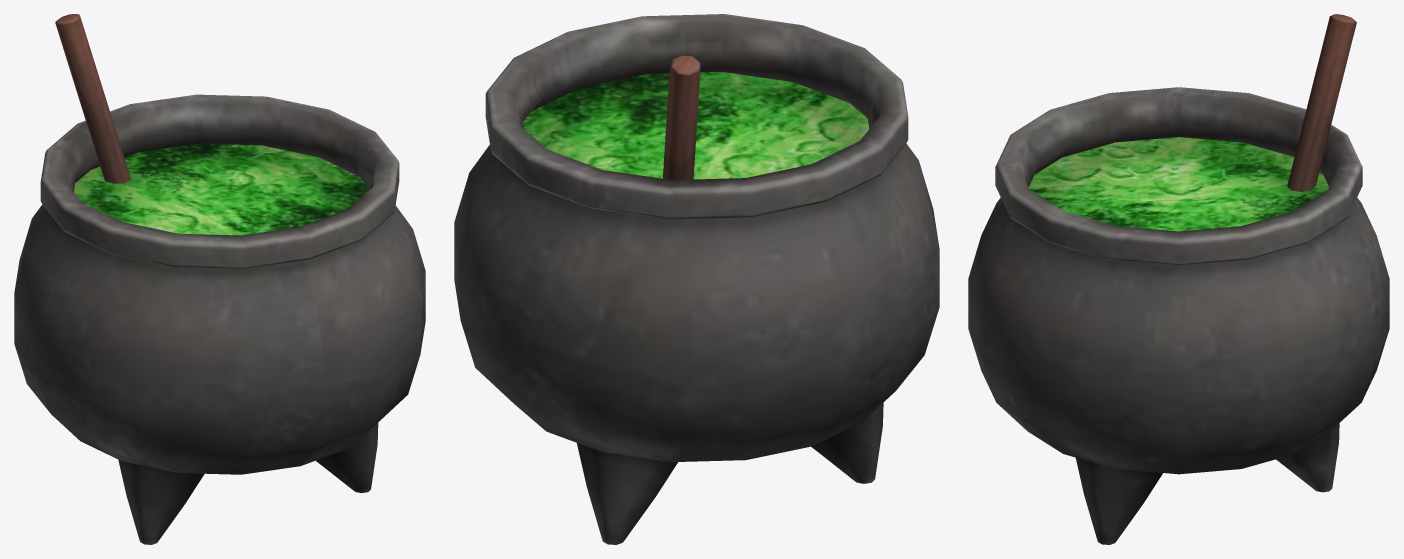
File: SM_Caldron_884313.glb
3 renders of one model, left to right at view 1: azimuth 30°, elevation 25°; view 2: azimuth 150°, elevation 25°; view 3: azimuth 270°, elevation 25°, orthographic. The views are drawn at different scales.
Bounding box in the file's own units: 1.2 × 1.38 × 1.2.
Materials: 1 (1 with a texture image).
